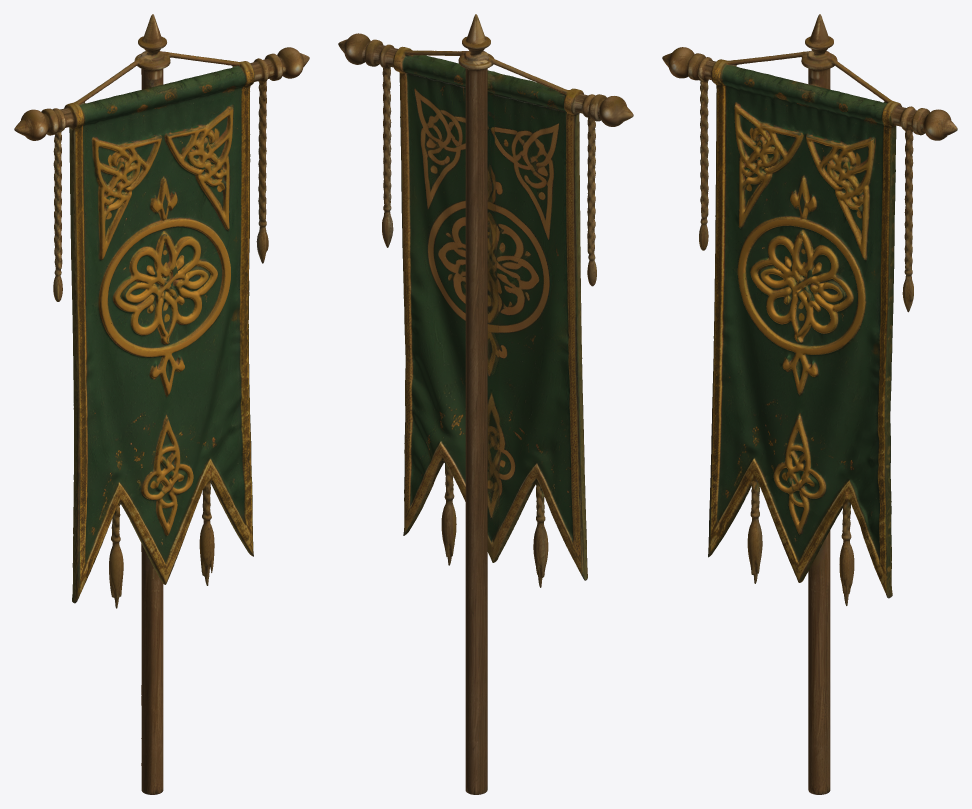
The model's file is Emerald Banner.glb.
3 renders of one model, left to right at view 1: azimuth 30°, elevation 25°; view 2: azimuth 150°, elevation 25°; view 3: azimuth 330°, elevation 25°, orthographic.
Parts seen in each view (by area): view 1: Mesh_0.001; view 2: Mesh_0.001; view 3: Mesh_0.001.
Boxes of the visible parts, x1=… form: Mesh_0.001: x1=14, y1=14, x2=309, y2=794; Mesh_0.001: x1=338, y1=14, x2=633, y2=794; Mesh_0.001: x1=662, y1=14, x2=957, y2=794.
Size of the model in its own units: 1.19 by 3 by 0.1997.
1 material, 1 textured.
